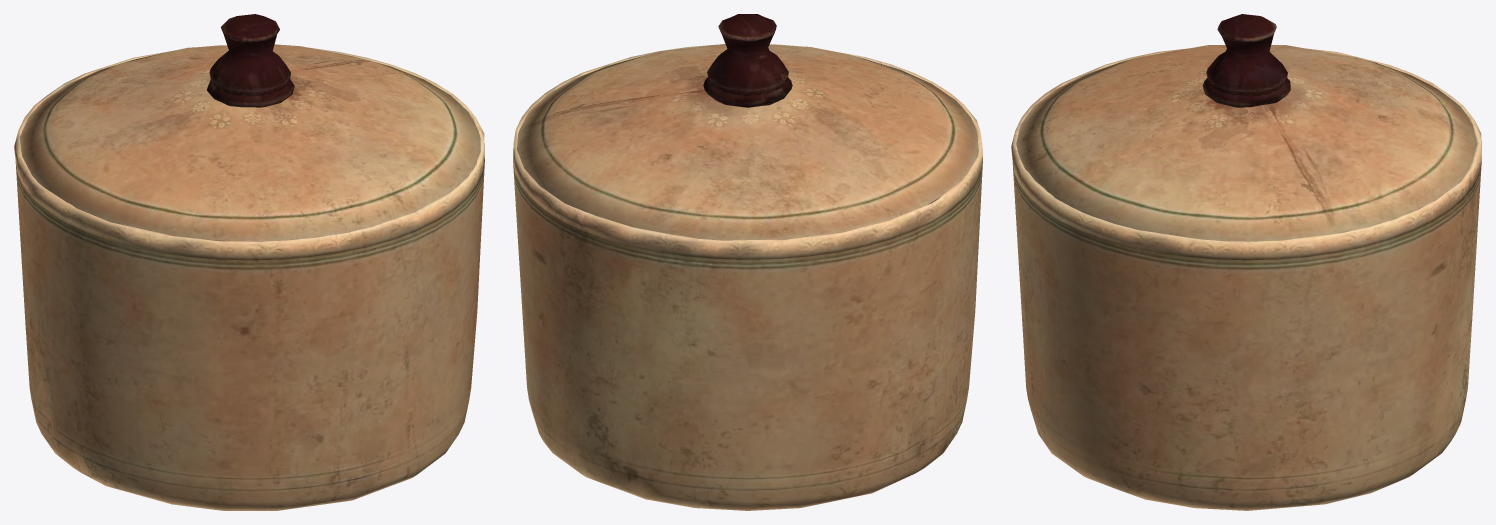
Rendered from brass_pot_01.glb.
3 renders of one model, left to right at view 1: azimuth 30°, elevation 25°; view 2: azimuth 150°, elevation 25°; view 3: azimuth 270°, elevation 25°, orthographic.
Visible parts, largest first — view 1: brass_pot_01; view 2: brass_pot_01; view 3: brass_pot_01.
Boxes of the visible parts, <box> form: brass_pot_01: <box>14,14,484,510</box>; brass_pot_01: <box>513,14,982,510</box>; brass_pot_01: <box>1011,14,1481,510</box>.
Bounding box in the file's own units: 0.2993 × 0.2909 × 0.3001.
Materials: 1 (1 with a texture image).
